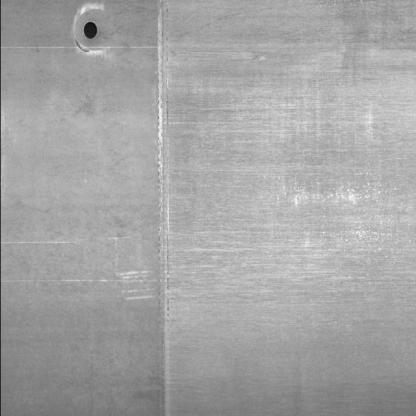punching_hole: (80, 18, 104, 42)
welding_line: (143, 1, 184, 415)
